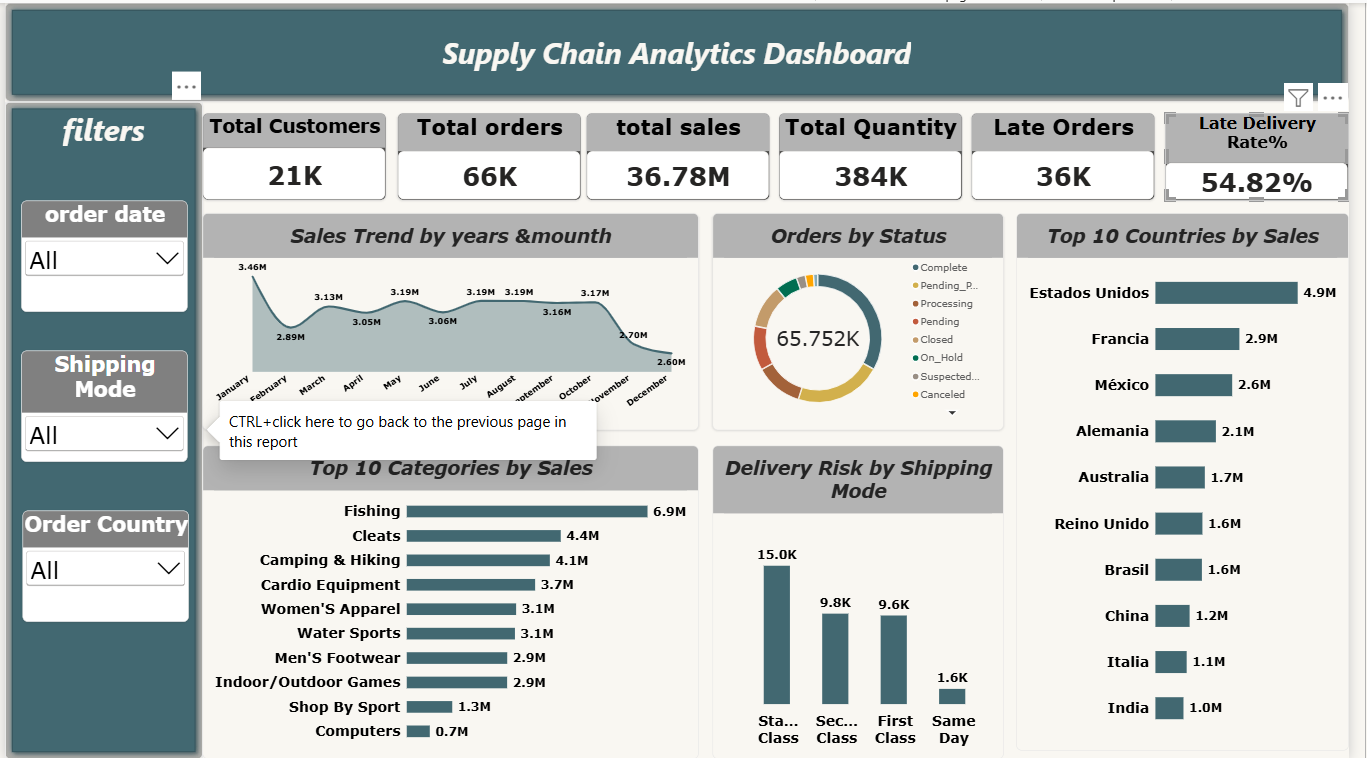

Layout of this report page (visuals, bound fields, positions):
{"tool":"powerbi","page":{"name":"Supply Chain Analytics Dashboard","canvas":[1920,1080],"ordinal":0},"visuals":[{"type":"shape","box":[0,0,1919.7,141.1],"z":0},{"type":"shape","box":[0,141.1,282.1,939.3],"z":1000},{"type":"cardVisual","title":"Total Customers","fields":{"Data":["ChainDataset.Total Customers"]},"box":[282.1,157.1,262.5,125],"z":2000},{"type":"cardVisual","title":"Total orders","fields":{"Data":["ChainDataset.total orders"]},"box":[560.7,157.1,262.5,125],"z":3000},{"type":"cardVisual","title":"total sales","fields":{"Data":["ChainDataset.total sales"]},"box":[830.4,157.1,262.5,125],"z":4000},{"type":"cardVisual","title":"Total Quantity","fields":{"Data":["ChainDataset.Total Quantity"]},"box":[1105.4,157.1,262.5,125],"z":5000},{"type":"cardVisual","title":"Late Orders","fields":{"Data":["ChainDataset.Late Orders"]},"box":[1380.4,157.1,262.5,125],"z":6000},{"type":"cardVisual","title":"Late Delivery Rate%","fields":{"Data":["ChainDataset.Late Delivery Rate%"]},"box":[1657.2,157.1,262.5,125],"z":7000},{"type":"lineChart","title":"Sales Trend by years &mounth","fields":{"Category":["ChainDataset.order date (DateOrders).Variation.Date Hierarchy.Year","ChainDataset.order date (DateOrders).Variation.Date Hierarchy.Month"],"Y":["ChainDataset.total sales"]},"box":[282.1,300,708.9,310.7],"z":8000},{"type":"barChart","title":"Top 10 Categories by Sales","fields":{"Category":["ChainDataset.Category Name"],"Y":["ChainDataset.total sales"]},"box":[282.1,632.1,708.9,448.2],"z":9000},{"type":"donutChart","title":"Orders by Status","fields":{"Category":["ChainDataset.Order Status"],"Y":["Count(ChainDataset.Order Id)"]},"box":[1010.7,300,416.1,310.7],"z":10000},{"type":"columnChart","title":"Delivery Risk by Shipping Mode","fields":{"Category":["ChainDataset.Shipping Mode"],"Y":["ChainDataset.Late Orders"]},"box":[1010.7,632.1,416.1,448.2],"z":10001},{"type":"barChart","title":"Top 10 Countries by Sales","fields":{"Category":["ChainDataset.Order Country"],"Y":["ChainDataset.total sales"]},"box":[1444.7,300,475,767.9],"z":10002},{"type":"slicer","title":"order date","fields":{"Values":["ChainDataset.order date (DateOrders).Variation.Date Hierarchy.Year"]},"box":[23.2,282.1,237.5,158.9],"z":10003},{"type":"slicer","title":"Shipping Mode","fields":{"Values":["ChainDataset.Shipping Mode"]},"box":[23.2,496.4,237.5,158.9],"z":10004},{"type":"slicer","title":"Order Country","fields":{"Values":["ChainDataset.Order Country"]},"box":[25,725,237.5,158.9],"z":10005}]}

Visuals, with their boxes in screenshot pixels (x1, y1, x2, y2), scaled from the page's 1920x1080 canvas onto the 1367x758 screenshot:
shape: [x1=0, y1=0, x2=1366, y2=99]
shape: [x1=0, y1=99, x2=201, y2=757]
"Total Customers" cardVisual: [x1=201, y1=110, x2=388, y2=198]
"Total orders" cardVisual: [x1=399, y1=110, x2=586, y2=198]
"total sales" cardVisual: [x1=591, y1=110, x2=778, y2=198]
"Total Quantity" cardVisual: [x1=787, y1=110, x2=974, y2=198]
"Late Orders" cardVisual: [x1=983, y1=110, x2=1170, y2=198]
"Late Delivery Rate%" cardVisual: [x1=1180, y1=110, x2=1366, y2=198]
"Sales Trend by years &mounth" lineChart: [x1=201, y1=211, x2=706, y2=429]
"Top 10 Categories by Sales" barChart: [x1=201, y1=444, x2=706, y2=757]
"Orders by Status" donutChart: [x1=720, y1=211, x2=1016, y2=429]
"Delivery Risk by Shipping Mode" columnChart: [x1=720, y1=444, x2=1016, y2=757]
"Top 10 Countries by Sales" barChart: [x1=1029, y1=211, x2=1366, y2=750]
"order date" slicer: [x1=17, y1=198, x2=186, y2=310]
"Shipping Mode" slicer: [x1=17, y1=348, x2=186, y2=460]
"Order Country" slicer: [x1=18, y1=509, x2=187, y2=620]
